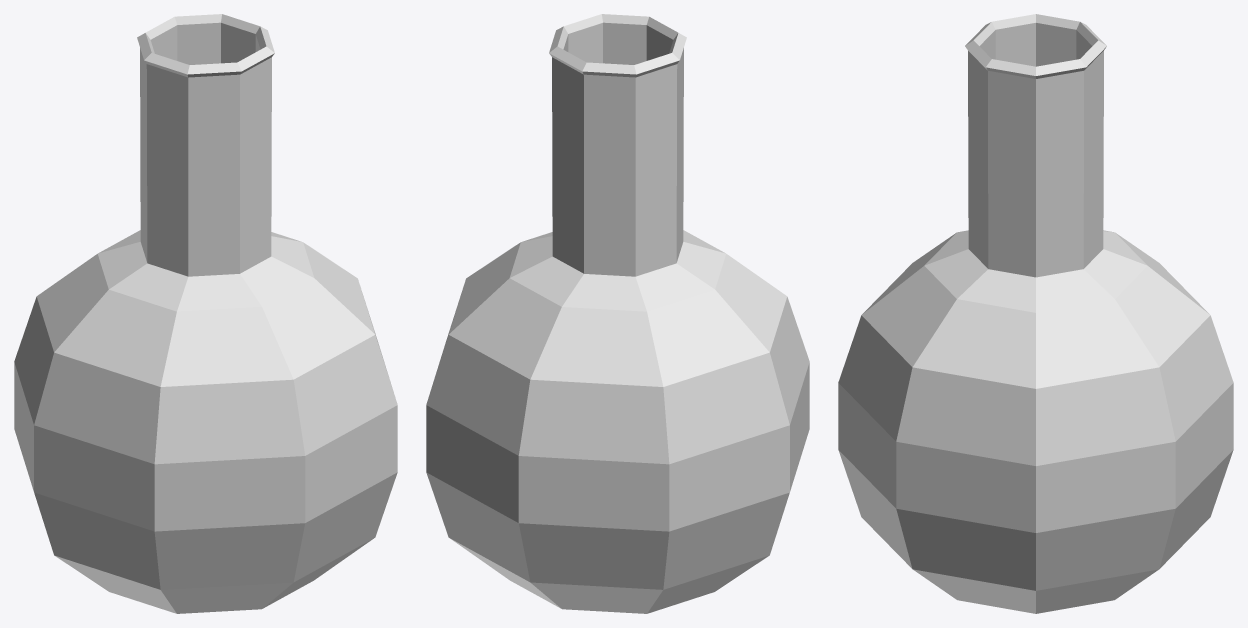
The model's file is Potion D.fbx.
3 views of the same model, side by side, from view 1: azimuth 30°, elevation 25°; view 2: azimuth 150°, elevation 25°; view 3: azimuth 270°, elevation 25° (orthographic).
Parts seen in each view (by area): view 1: Cylinder.042; view 2: Cylinder.042; view 3: Cylinder.042.
Part boxes in pixels (<box>): Cylinder.042: <box>14,14,397,613</box>; Cylinder.042: <box>426,14,809,613</box>; Cylinder.042: <box>838,14,1233,613</box>.
Size of the model in its own units: 30.94 by 47.01 by 30.94.
2 materials, 2 textured.
